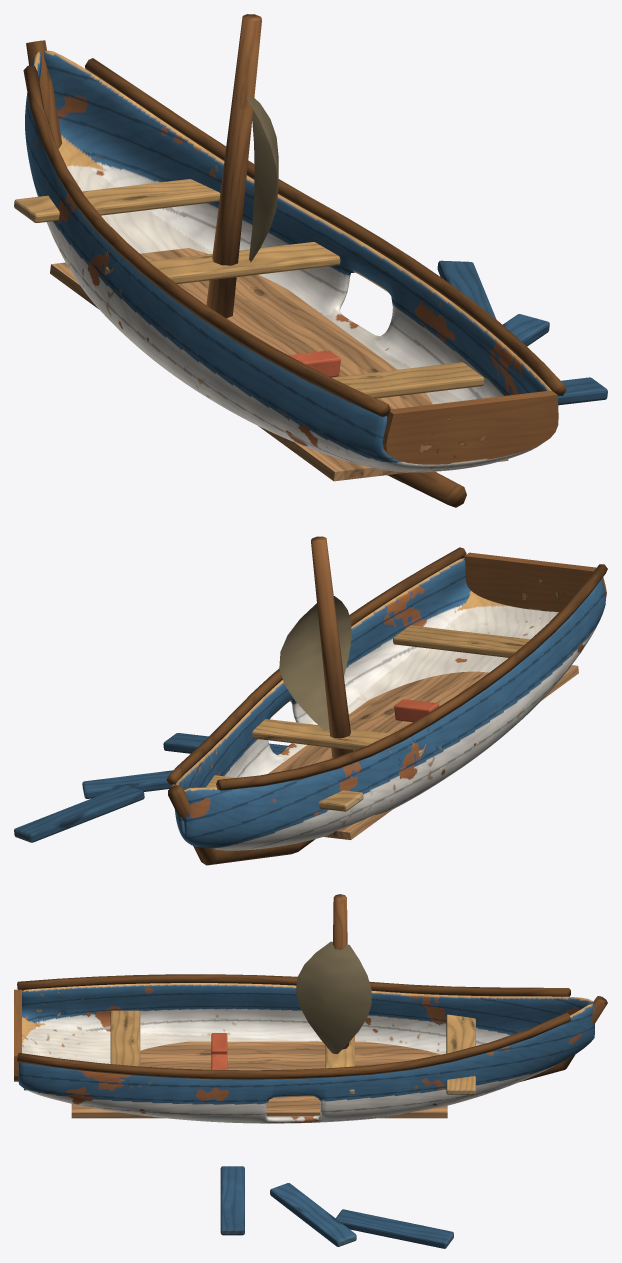
Rendered from stepa_boat_wreck.glb.
3 views of the same model, one above another, from view 1: azimuth 30°, elevation 25°; view 2: azimuth 150°, elevation 25°; view 3: azimuth 270°, elevation 25° (orthographic). The views are drawn at different scales.
Visible parts, largest first — view 1: Boat; view 2: Boat; view 3: Boat.
Part boxes in pixels (x1,y1,x2,y2): Boat: [14, 14, 607, 507]; Boat: [14, 536, 607, 865]; Boat: [14, 894, 607, 1248].
Size of the model in its own units: 2.57 by 2.1 by 4.42.
Materials: 1 (1 with a texture image).
